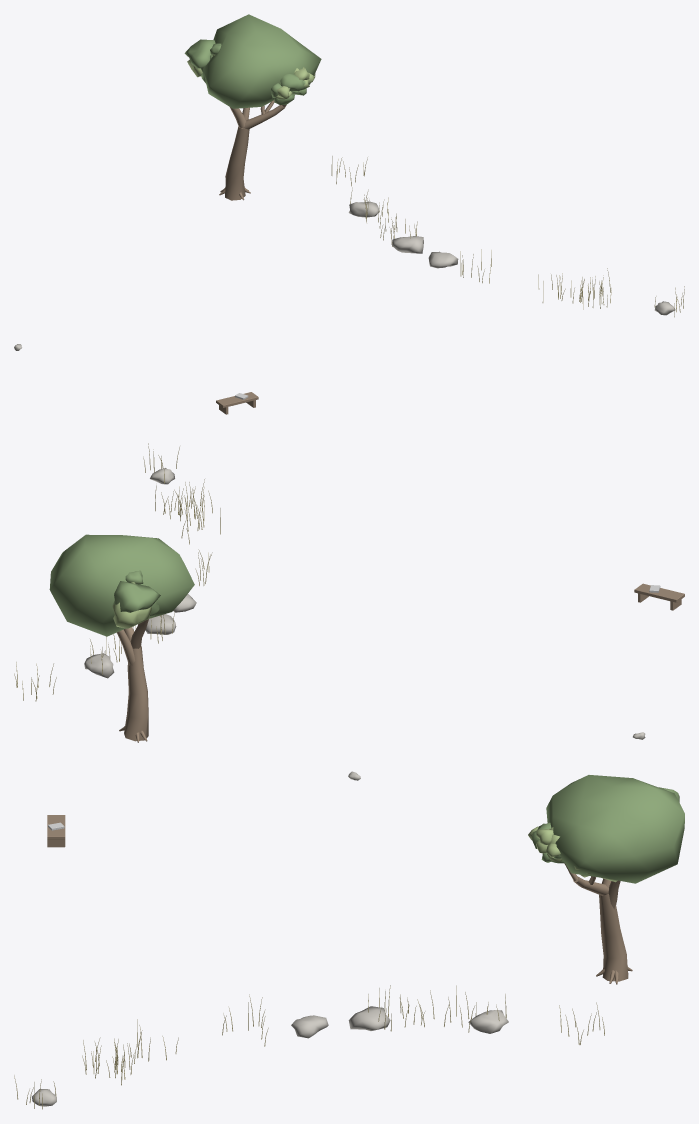
3 views of the same model, one above another, from view 1: azimuth 30°, elevation 25°; view 2: azimuth 150°, elevation 25°; view 3: azimuth 270°, elevation 25° (orthographic). The views are drawn at different scales.
Visible parts, largest first — view 1: p0_m2; view 2: p0_m2; view 3: p0_m2.
Boxes of the visible parts, left/top/right/bottom form: p0_m2: left=14, top=14, right=684, bottom=414; p0_m2: left=14, top=443, right=684, bottom=742; p0_m2: left=14, top=771, right=684, bottom=1109.
Bounding box in the file's own units: 39.75 × 11.62 × 33.55.
